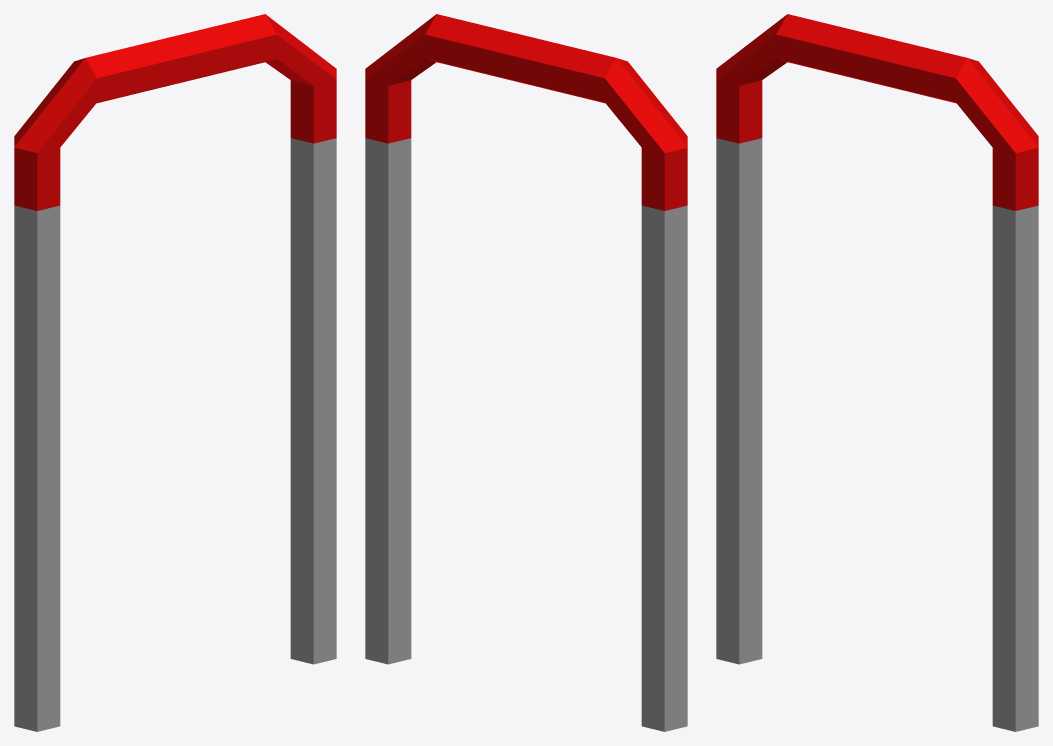
The model's file is Wicket1.fbx.
3 views of the same model, side by side, from view 1: azimuth 30°, elevation 25°; view 2: azimuth 150°, elevation 25°; view 3: azimuth 330°, elevation 25° (orthographic).
Parts seen in each view (by area): view 1: pCylinder5; view 2: pCylinder5; view 3: pCylinder5.
Part boxes in pixels (x1,y1,x2,y2): pCylinder5: [14, 14, 336, 731]; pCylinder5: [365, 14, 687, 731]; pCylinder5: [716, 14, 1038, 731].
Bounding box in the file's own units: 3.5 × 6.75 × 0.433.
